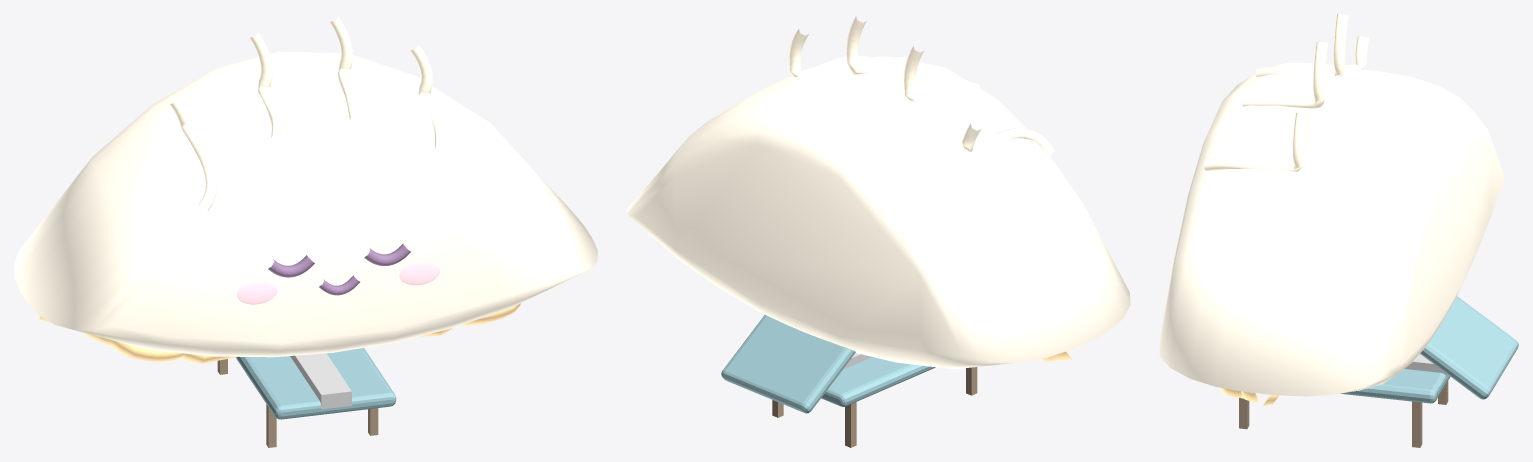
File: life_gyoza.glb
3 renders of one model, left to right at view 1: azimuth 30°, elevation 25°; view 2: azimuth 150°, elevation 25°; view 3: azimuth 270°, elevation 25°, orthographic. The views are drawn at different scales.
Parts seen in each view (by area): view 1: wrap_gyoza_1, life_gyoza; view 2: wrap_gyoza_1, life_gyoza; view 3: wrap_gyoza_1, life_gyoza.
Part boxes in pixels (x1=…): wrap_gyoza_1: x1=14, y1=17, x2=597, y2=363; life_gyoza: x1=217, y1=348, x2=396, y2=447; wrap_gyoza_1: x1=626, y1=16, x2=1130, y2=369; life_gyoza: x1=721, y1=315, x2=977, y2=447; wrap_gyoza_1: x1=1159, y1=14, x2=1504, y2=405; life_gyoza: x1=1239, y1=296, x2=1518, y2=447.
Bounding box in the file's own units: 5.53 × 4.07 × 3.43.
